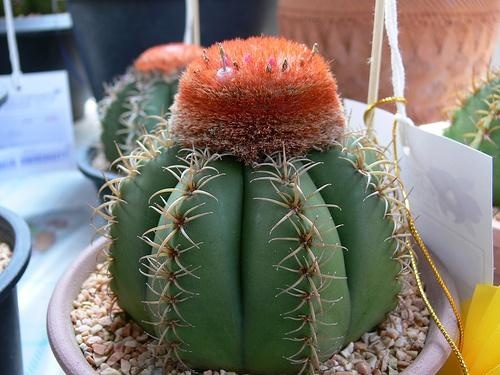pottedplant: (48, 38, 462, 375), (76, 42, 212, 214)
